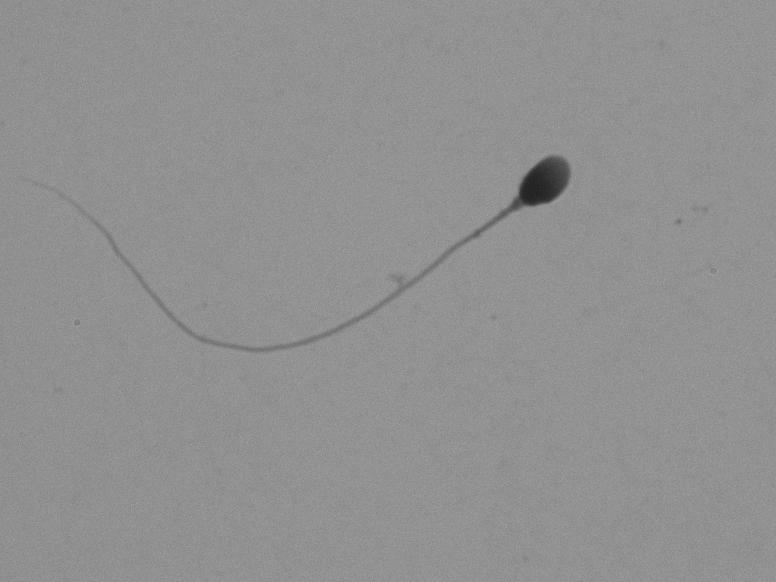Normal: (29, 100, 613, 395)
